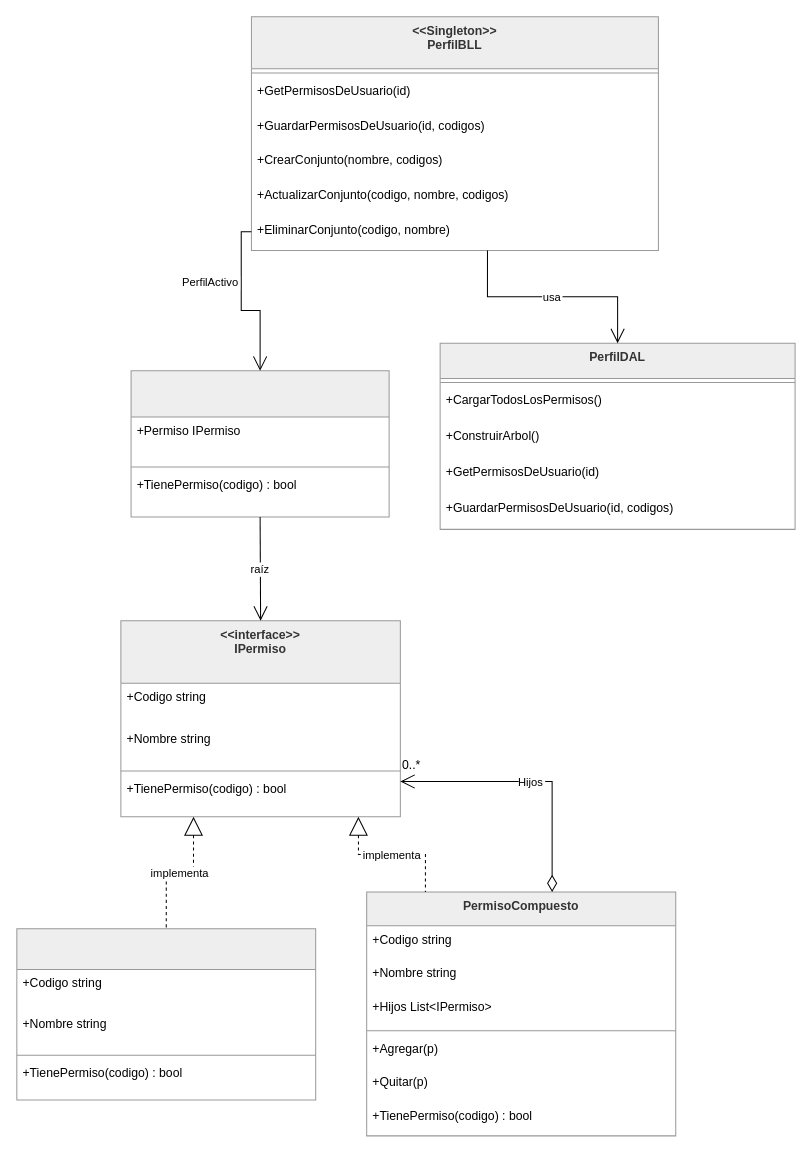
Image size: 812x1153. Some labels were removed from this diagram. Here are the shapes that lost their labels. From the top down, the box of each, then its label:
(130, 370, 389, 517): Perfil
(16, 928, 316, 1100): PermisoAtomico
